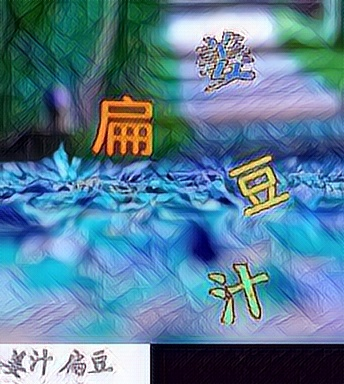B1E2: (91, 93, 155, 159)
B6B9: (225, 150, 289, 216)
BDAA: (195, 30, 259, 96)
D6AD: (207, 258, 271, 324)
